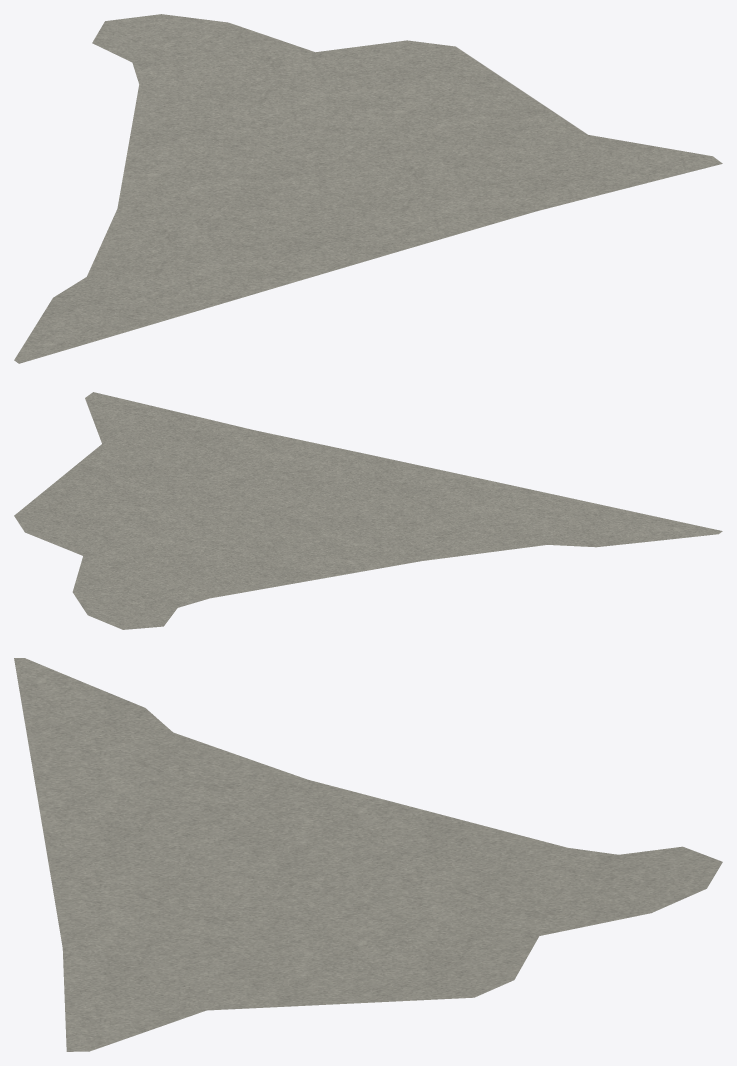
Rendered from path_10.gltf.
3 views of the same model, one above another, from view 1: azimuth 30°, elevation 25°; view 2: azimuth 150°, elevation 25°; view 3: azimuth 270°, elevation 25° (orthographic). The views are drawn at different scales.
Parts seen in each view (by area): view 1: path_10.surface; view 2: path_10.surface; view 3: path_10.surface.
Part boxes in pixels (x1,y1,x2,y2): path_10.surface: (14,14,722,363); path_10.surface: (14,392,722,629); path_10.surface: (14,658,722,1051).
Size of the model in its own units: 5.9 by 0.116 by 4.42.
1 material, 1 textured.
